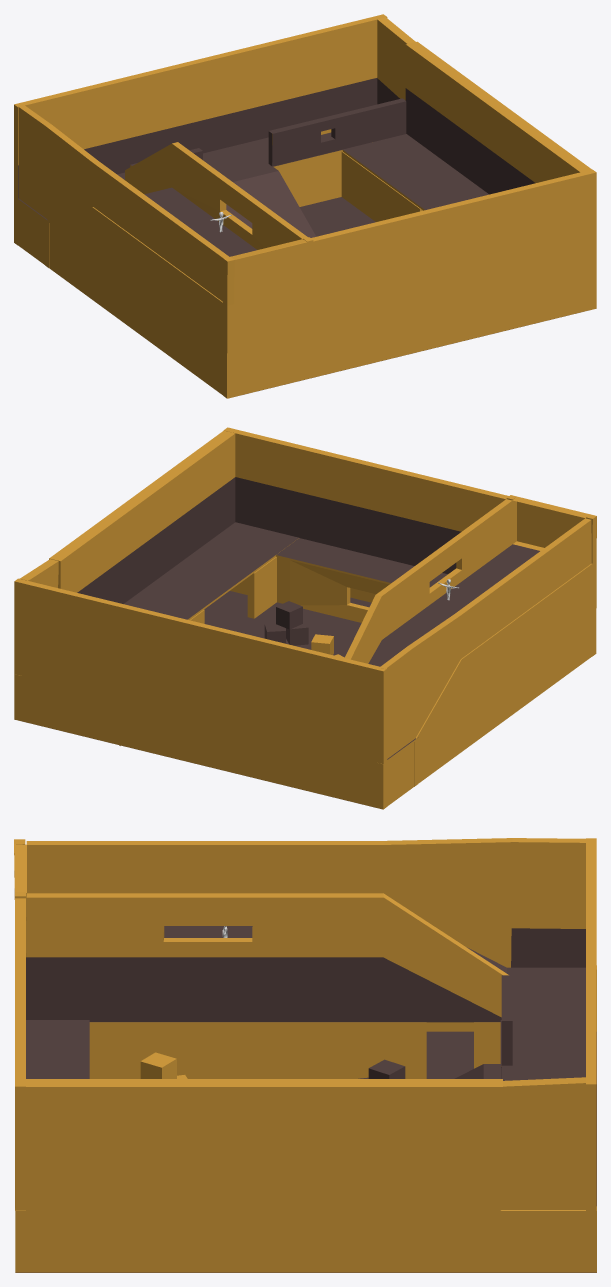
Rendered from Map.glb.
3 renders of one model, top to bottom at view 1: azimuth 30°, elevation 25°; view 2: azimuth 150°, elevation 25°; view 3: azimuth 270°, elevation 25°, orthographic. The views are drawn at different scales.
Visible parts, largest first — view 1: MainMap; view 2: MainMap, Boxes; view 3: MainMap, Boxes.002, Boxes.001.
Boxes of the visible parts, left/top/right/bottom form: MainMap: left=14, top=14, right=596, bottom=398; MainMap: left=14, top=427, right=596, bottom=809; Boxes: left=264, top=601, right=308, bottom=645; MainMap: left=14, top=838, right=596, bottom=1272; Boxes.002: left=140, top=1052, right=187, bottom=1078; Boxes.001: left=358, top=1059, right=405, bottom=1078.
Bounding box in the file's own units: 112 × 41.63 × 112.
